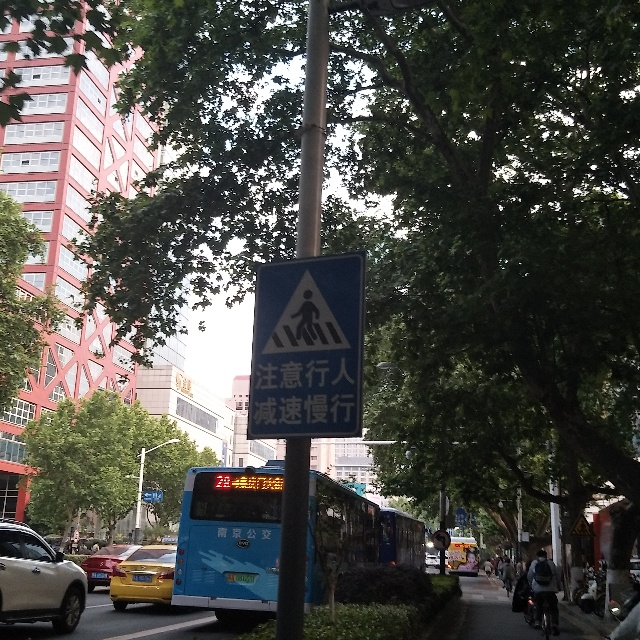crosswalk: (252, 265, 366, 366)
